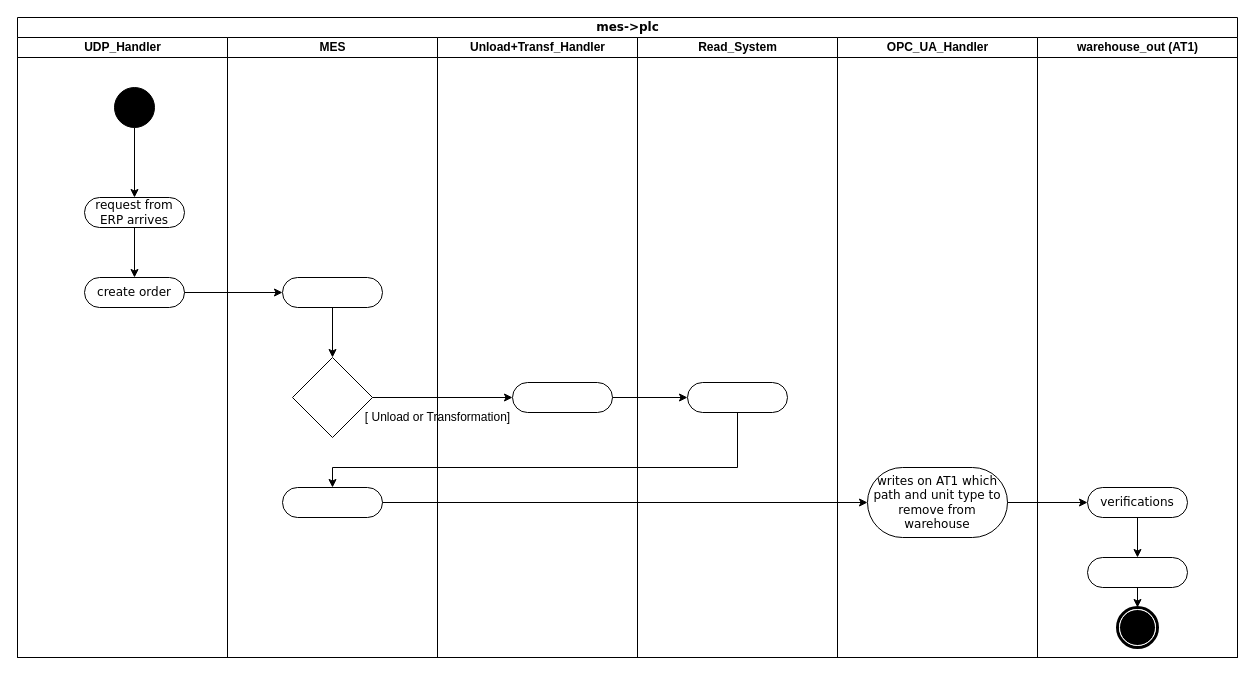
The diagram is 1255 pixels wide and 675 high, and some of its shapes have lost their labels. Here are the shapes that lost their labels. From the top down, the centre of each, then its label:
point 332,292: add order to list
point 562,397: calculates path to order
point 737,397: waits for AT1 to be free
point 332,502: triggers order execution
point 1137,572: send unit to next conveyor
